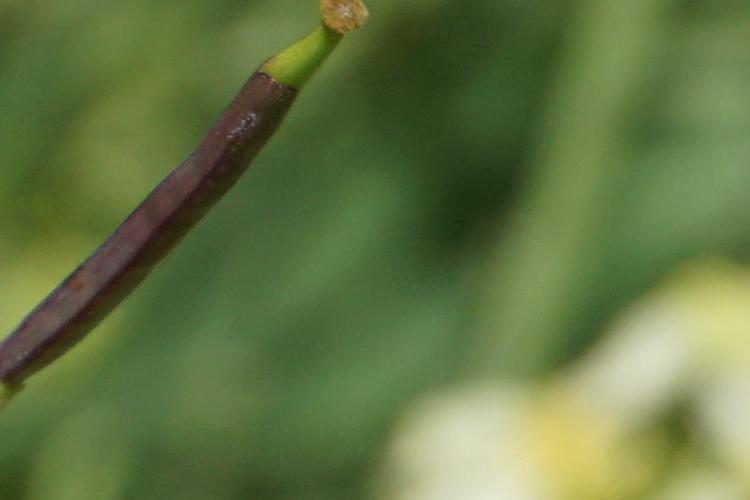pod: (2, 4, 374, 406)
